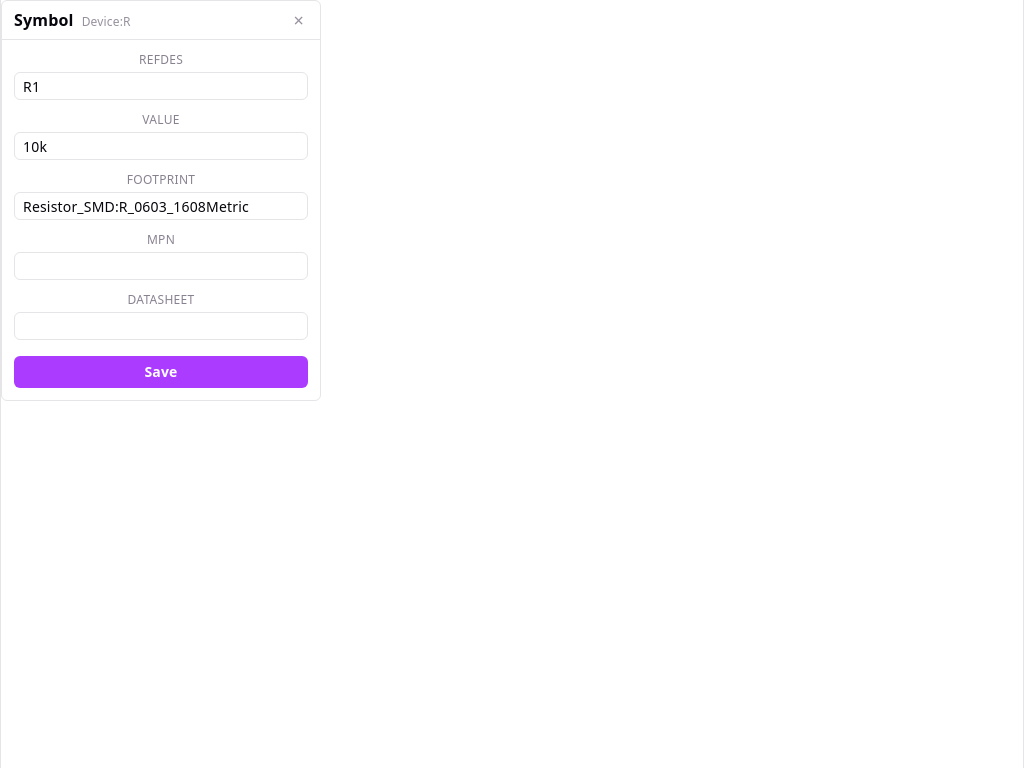
Test: PropertyPanel › surfaces gateway errors as a visible message
What coordinates should you click on to do the following:
click the button with test id "property-save"
I would click on:
 (161, 372)
Its box is [14, 356, 308, 388].
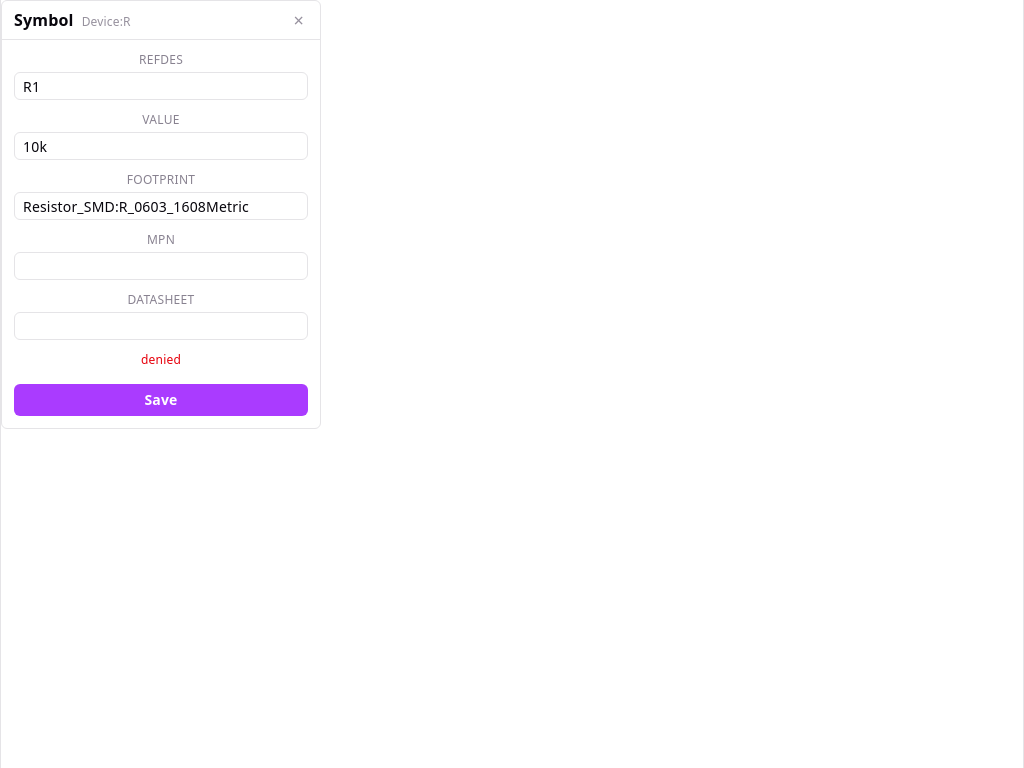
Expected: the text with test id "property-error" reads "denied", [141, 351, 181, 368]
